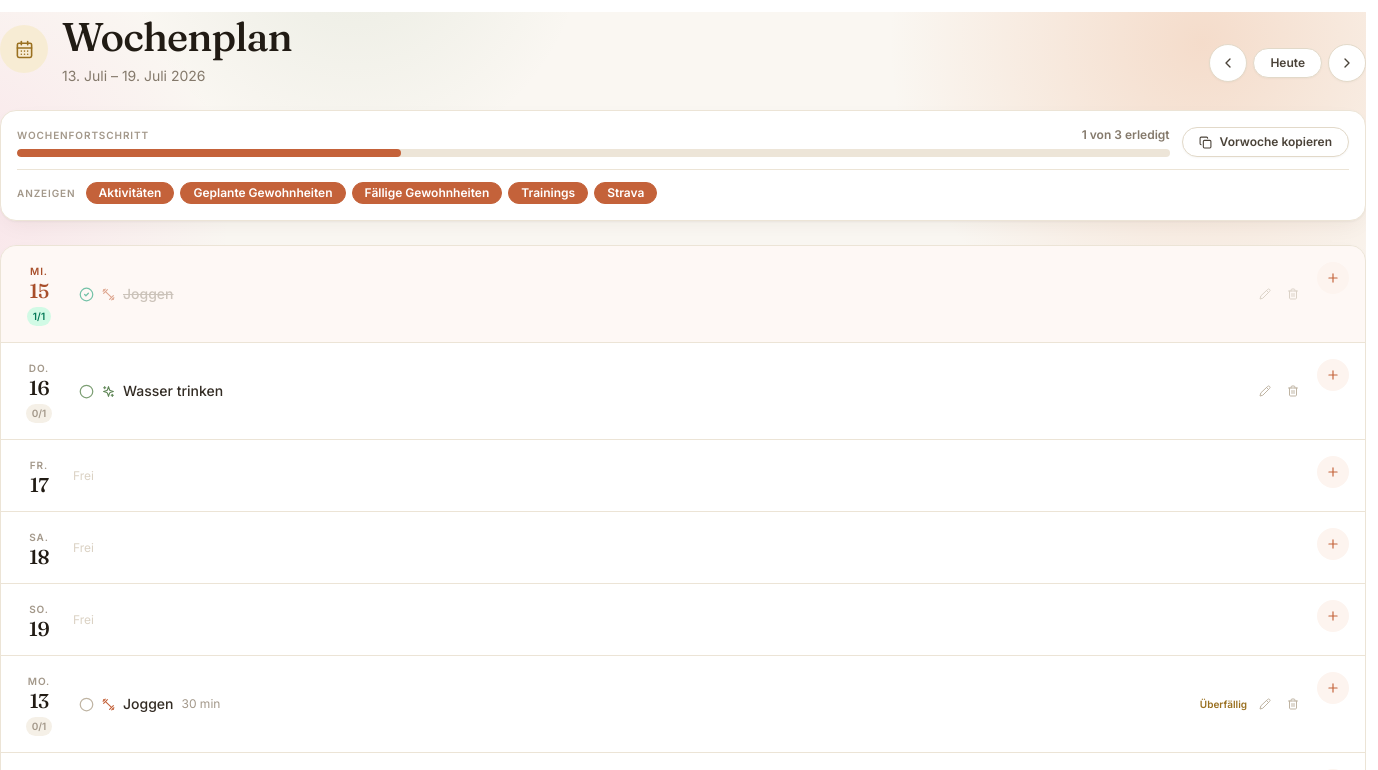
Planner – Vorwoche kopieren › kopiert die Vorwoche und zeigt das Ergebnis an
Expected: the text "Wasser trinken" is shown, [123, 381, 223, 401]
Click the button "Vorwoche kopieren" at (1265, 142), box [1182, 127, 1349, 157]
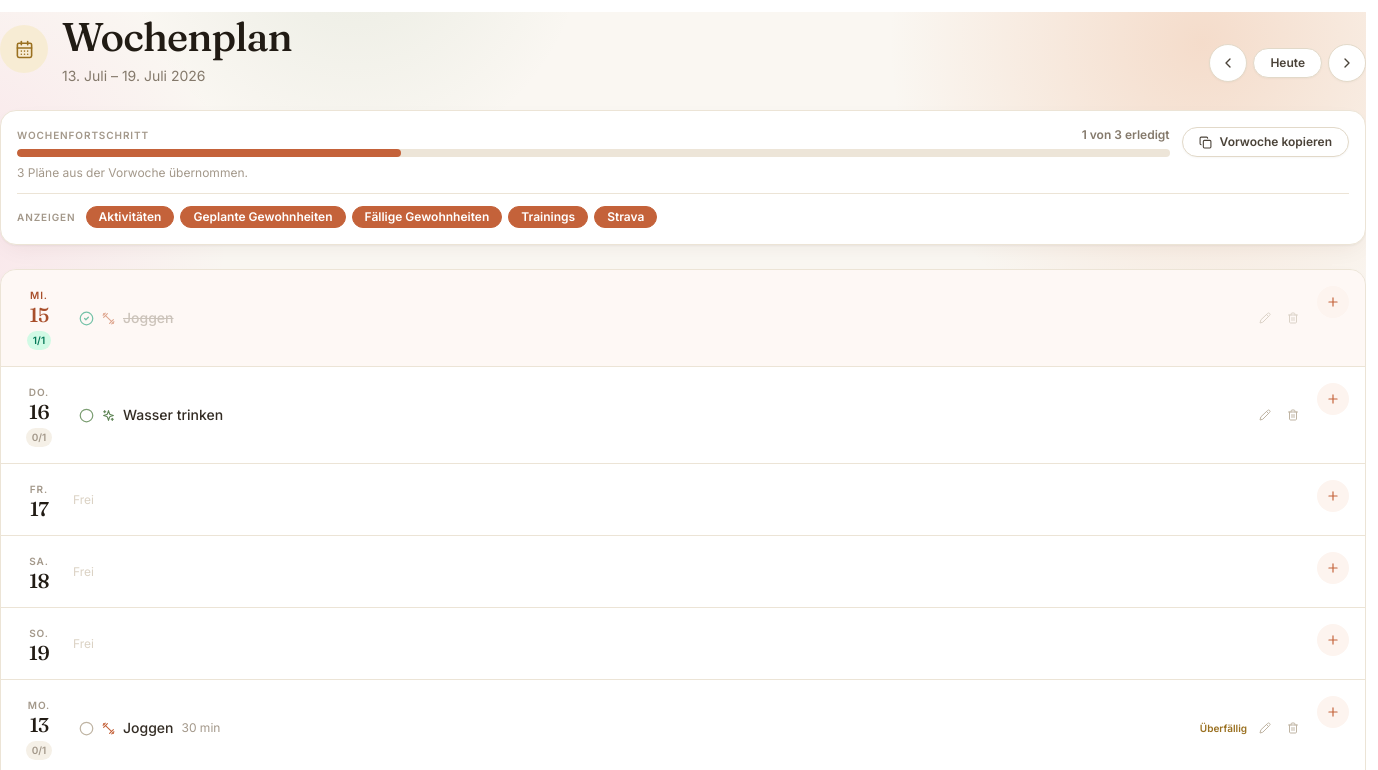
Now the text "3 Pläne aus der Vorwoche übernommen." is shown, box [17, 165, 248, 180]
